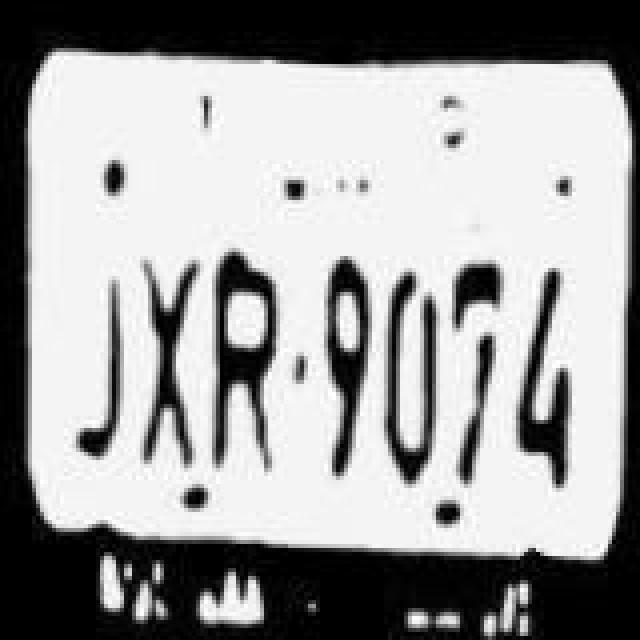4: (516, 262, 592, 494)
7: (442, 242, 514, 486)
9: (314, 254, 386, 490)
J: (58, 238, 122, 478)
O: (382, 262, 446, 486)
R: (206, 246, 294, 490)
X: (126, 246, 206, 474)
